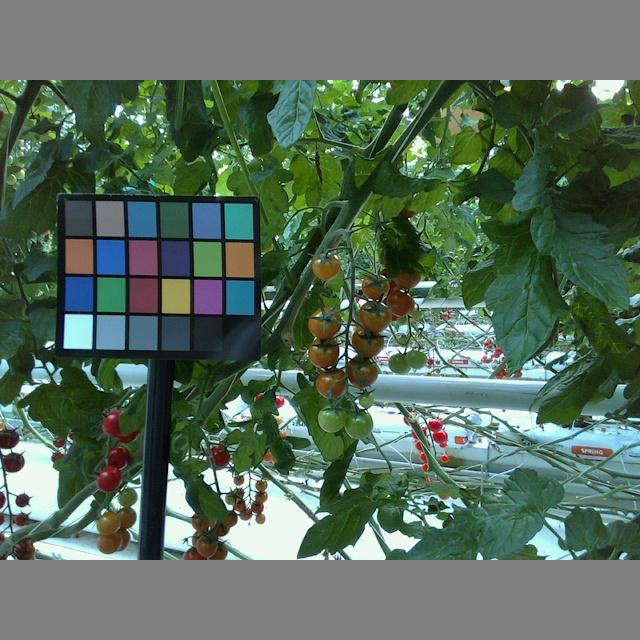green: (392, 350, 427, 374), (346, 409, 373, 440), (318, 405, 345, 434), (118, 488, 141, 509), (355, 391, 373, 409)
pink: (308, 306, 340, 337), (310, 339, 341, 371), (350, 357, 379, 388), (360, 302, 389, 330), (359, 273, 389, 300), (94, 533, 132, 554), (352, 332, 383, 356), (314, 373, 347, 395), (310, 254, 339, 279), (95, 512, 119, 529), (118, 506, 137, 525)
red: (99, 412, 135, 442), (98, 468, 122, 491), (108, 446, 130, 469)
